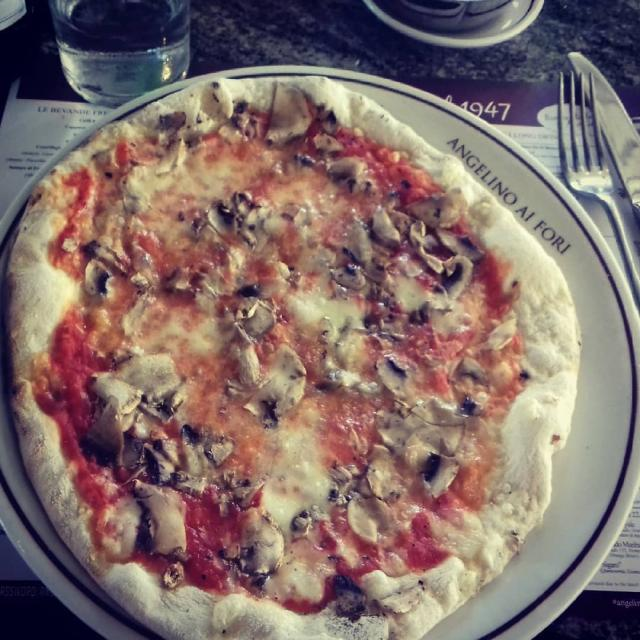mushrooms: (87, 452, 193, 590), (138, 409, 268, 513), (220, 331, 310, 437), (321, 448, 411, 544), (212, 478, 289, 589), (73, 359, 150, 469), (372, 390, 488, 458), (183, 186, 286, 257), (278, 132, 382, 202), (323, 210, 403, 299), (365, 186, 474, 247), (113, 346, 192, 427), (82, 229, 162, 305), (262, 84, 344, 158), (406, 222, 478, 303), (210, 279, 281, 343), (406, 439, 472, 500), (209, 80, 261, 144), (324, 561, 372, 628), (457, 315, 523, 360), (161, 255, 220, 305), (316, 357, 381, 402), (290, 494, 334, 551), (369, 349, 415, 398), (446, 359, 506, 388), (400, 295, 437, 331), (153, 111, 194, 141), (59, 228, 85, 256)
pizza: (0, 71, 581, 639)
